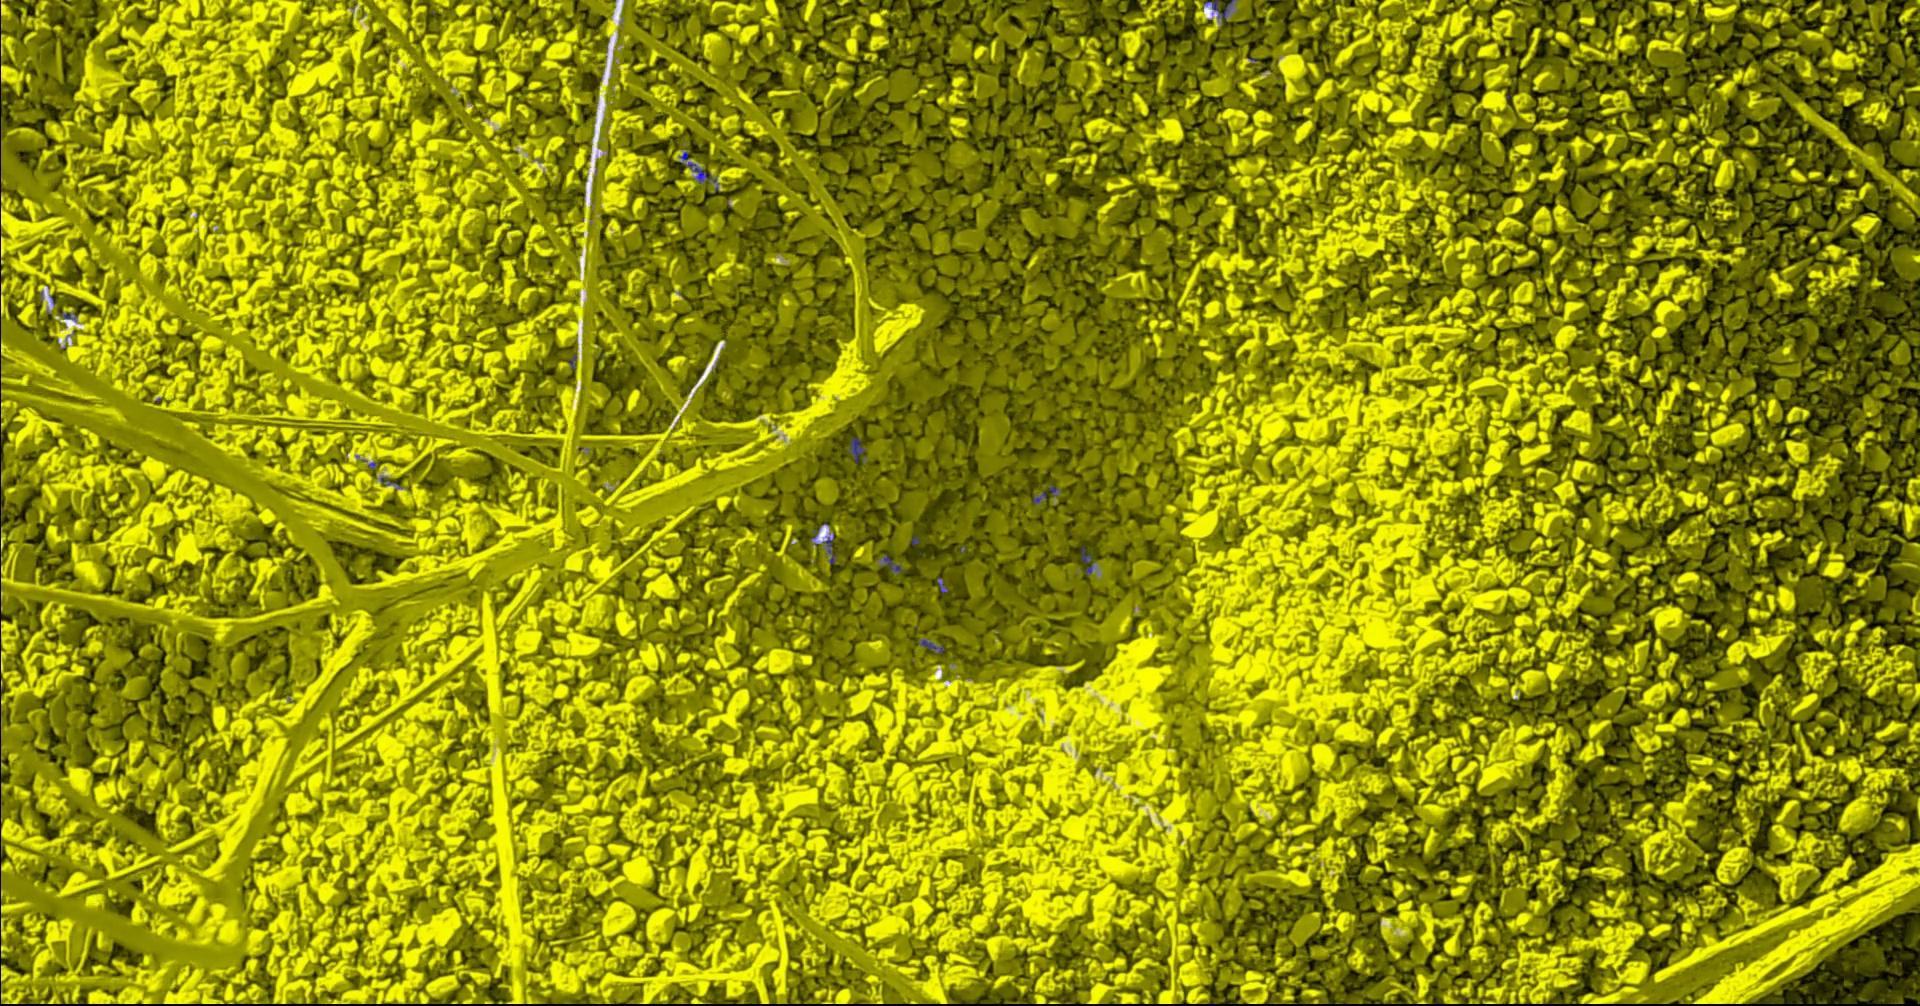ant: (681, 151, 720, 191), (1205, 0, 1236, 20), (850, 437, 867, 464), (824, 537, 841, 563), (884, 554, 903, 573), (921, 639, 945, 653), (1083, 547, 1095, 574)
